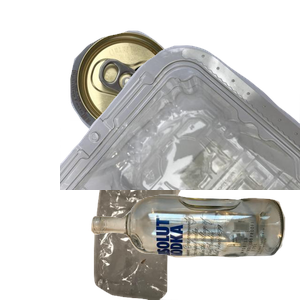glass: (88, 192, 300, 300)
metal: (68, 28, 237, 159)
plastic: (60, 43, 300, 223)
trash: (70, 120, 256, 300)
